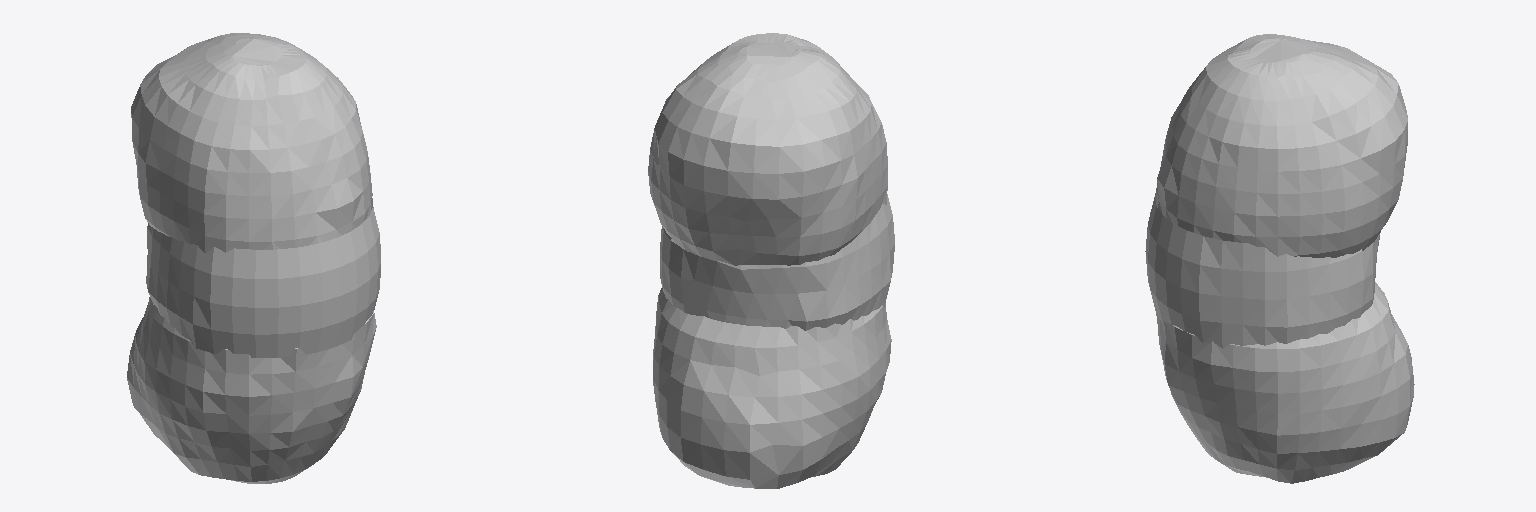
The model's file is Kidney.obj.
3 renders of one model, left to right at view 1: azimuth 30°, elevation 25°; view 2: azimuth 150°, elevation 25°; view 3: azimuth 270°, elevation 25°, orthographic.
Visible parts, largest first — view 1: kidney_Sphere.002; view 2: kidney_Sphere.002; view 3: kidney_Sphere.002.
Boxes of the visible parts, x1,y1,x2,y2 form: kidney_Sphere.002: [127, 33, 380, 483]; kidney_Sphere.002: [648, 33, 894, 488]; kidney_Sphere.002: [1145, 34, 1414, 483].
Size of the model in its own units: 2.09 by 4.07 by 2.4.